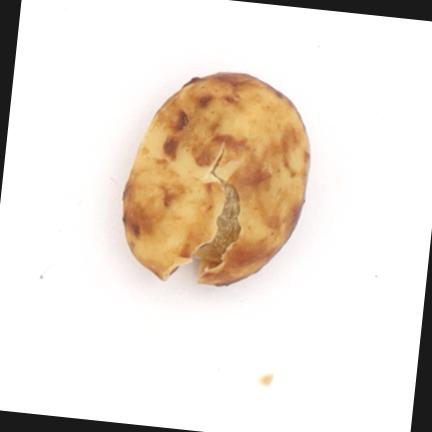parchment: (124, 73, 309, 284)
